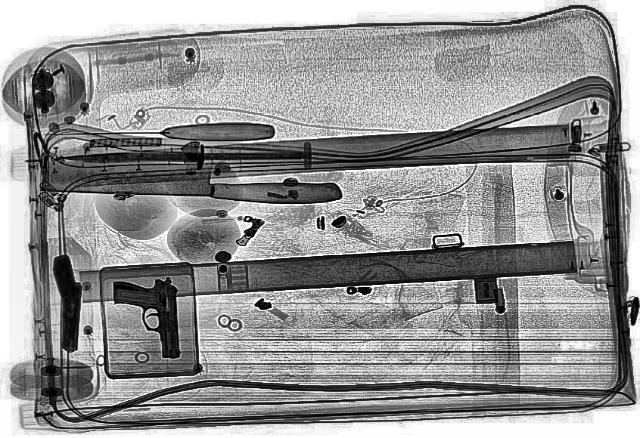Gun: (110, 276, 182, 358), (49, 254, 86, 354)
Knife: (38, 156, 342, 204), (45, 121, 274, 142), (61, 148, 305, 162)
